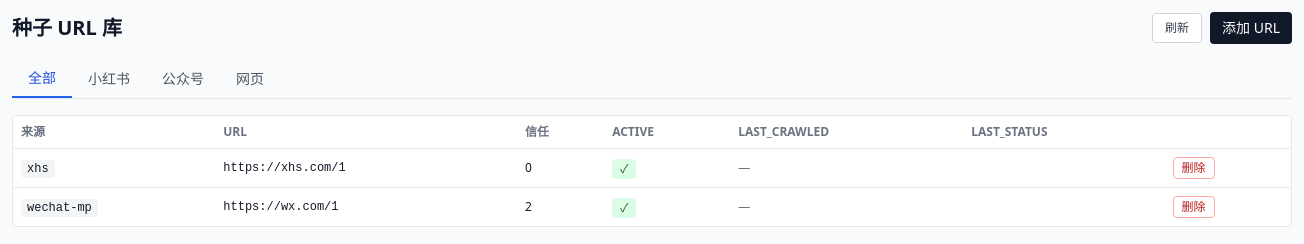
SeedsPage (P3-7) › 切 tab: 过滤 source
The width and height of the screenshot is (1304, 244).
Expected: the text "https://xhs.com/1" is shown, [223,161,346,175]
Note: 切到 wechat-mp tab
Click the tab with test id "seeds-tab-wechat-mp" at (183, 79), box [146,60,220,98]
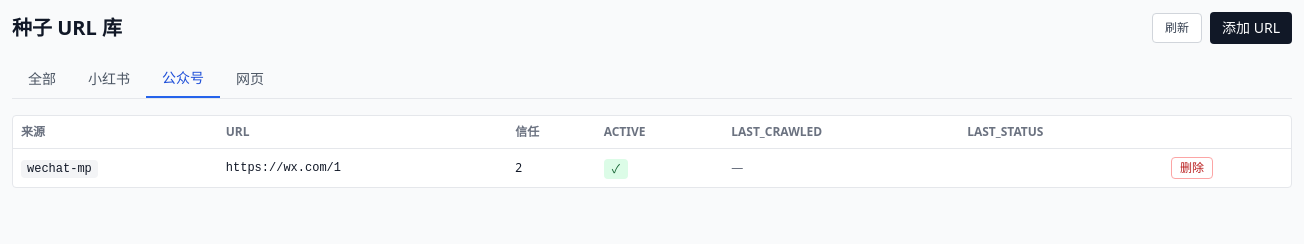
Expected: the text "https://wx.com/1" is shown, [226,161,341,175]
Now the text "xhs.com/1" is gone
